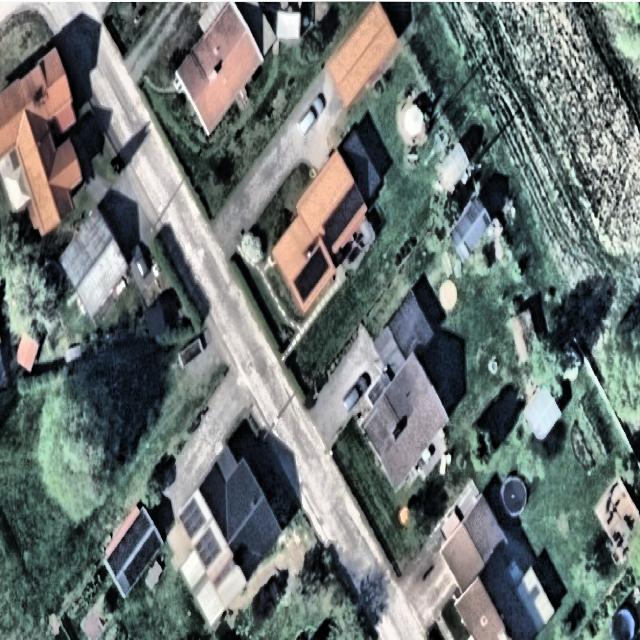roof_pv: (322, 182, 366, 242), (294, 250, 332, 300)
